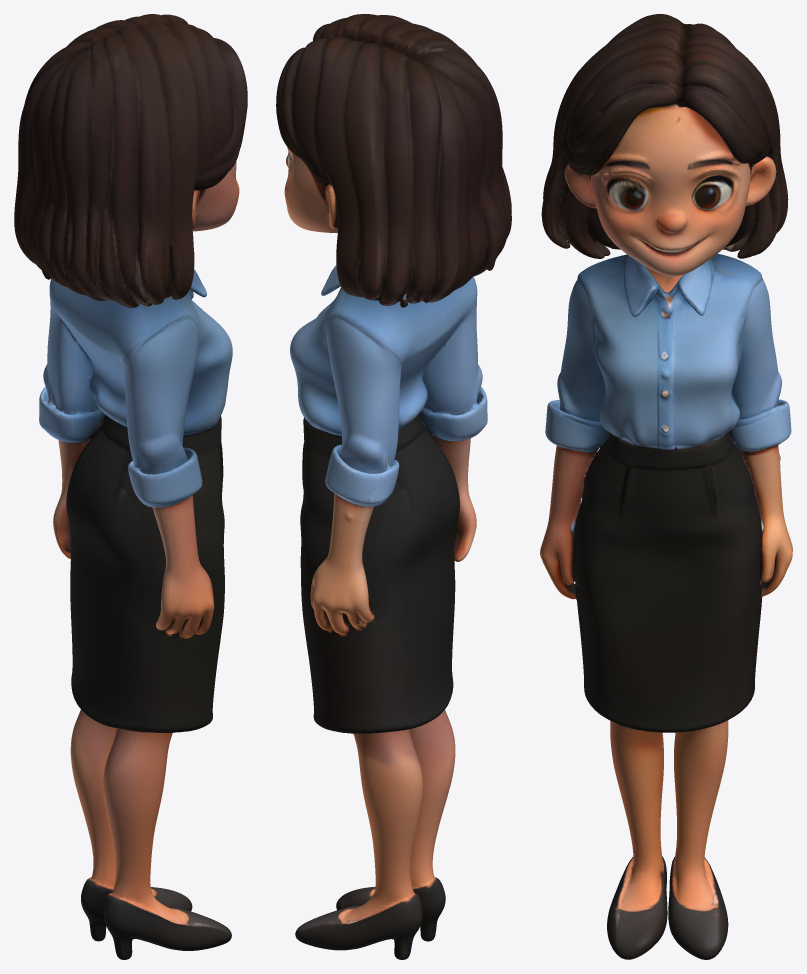
The model's file is teacher.glb.
3 views of the same model, side by side, from view 1: azimuth 30°, elevation 25°; view 2: azimuth 150°, elevation 25°; view 3: azimuth 270°, elevation 25° (orthographic).
Parts seen in each view (by area): view 1: tripo_node_532897cb-98e5-411b-93f5-28c991dd9813; view 2: tripo_node_532897cb-98e5-411b-93f5-28c991dd9813; view 3: tripo_node_532897cb-98e5-411b-93f5-28c991dd9813.
Boxes of the visible parts, <box> form: tripo_node_532897cb-98e5-411b-93f5-28c991dd9813: <box>14,14,247,959</box>; tripo_node_532897cb-98e5-411b-93f5-28c991dd9813: <box>276,14,511,959</box>; tripo_node_532897cb-98e5-411b-93f5-28c991dd9813: <box>540,14,792,959</box>.
Bounding box in the file's own units: 0.2315 × 1 × 0.2541.
Materials: 1 (1 with a texture image).
